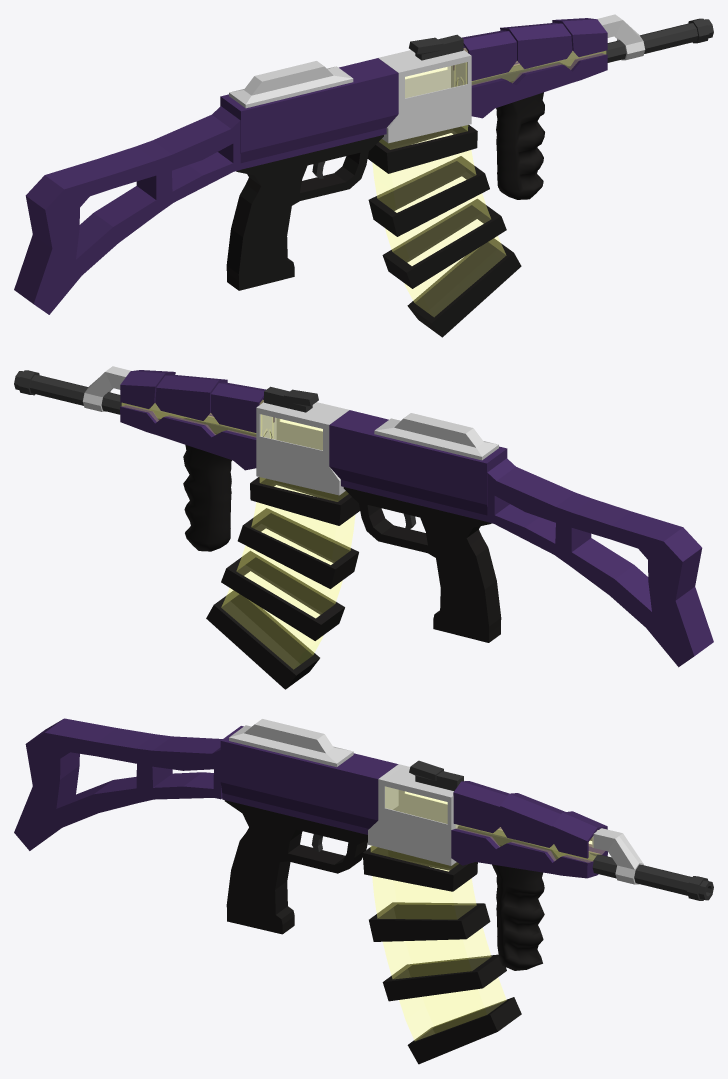
Rendered from Cyber_Ak_47.fbx.
The picture shows the model from 3 angles, top to bottom: view 1: azimuth 30°, elevation 25°; view 2: azimuth 150°, elevation 25°; view 3: azimuth 330°, elevation 25°; orthographic projection.
Parts seen in each view (by area): view 1: Vert.012, Vert.010, Vert.011, Vert.009; view 2: Vert.012, Vert.010, Vert.011, Vert.009; view 3: Vert.012, Vert.010, Vert.011, Vert.009.
Boxes of the visible parts, box(x1,y1,x2,y2) form: Vert.012: box(14, 14, 713, 337); Vert.010: box(500, 22, 572, 68); Vert.011: box(453, 30, 516, 80); Vert.009: box(552, 18, 607, 56); Vert.012: box(14, 366, 713, 689); Vert.010: box(155, 374, 227, 420); Vert.011: box(211, 382, 274, 432); Vert.009: box(120, 370, 175, 408); Vert.012: box(14, 718, 713, 1064); Vert.010: box(500, 793, 565, 847); Vert.011: box(453, 781, 508, 833); Vert.009: box(552, 811, 607, 858).
Size of the model in its own units: 383 by 156 by 23.69.
